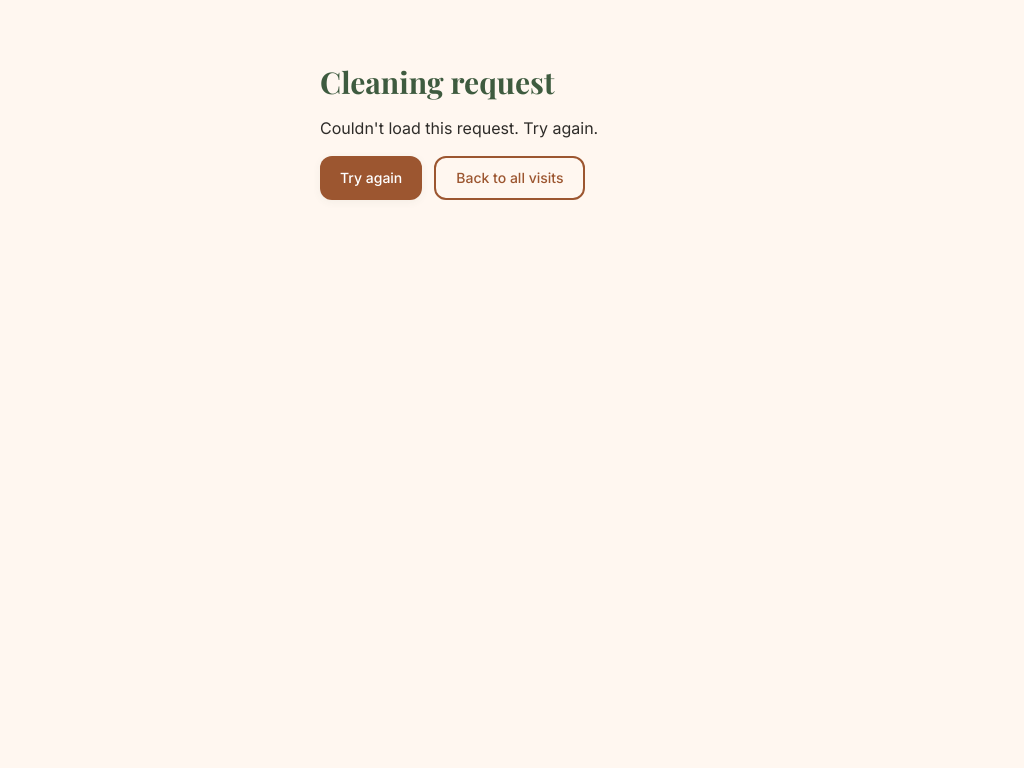
Scenario: owner login and visit switching › offers recovery for a missing request instead of claiming the visit list is empty
expect the message shows "Couldn't load this request": met, box [320,118,598,138]
Click the button "Back to all visits". click: (510,178)
box: [434,156,586,200]
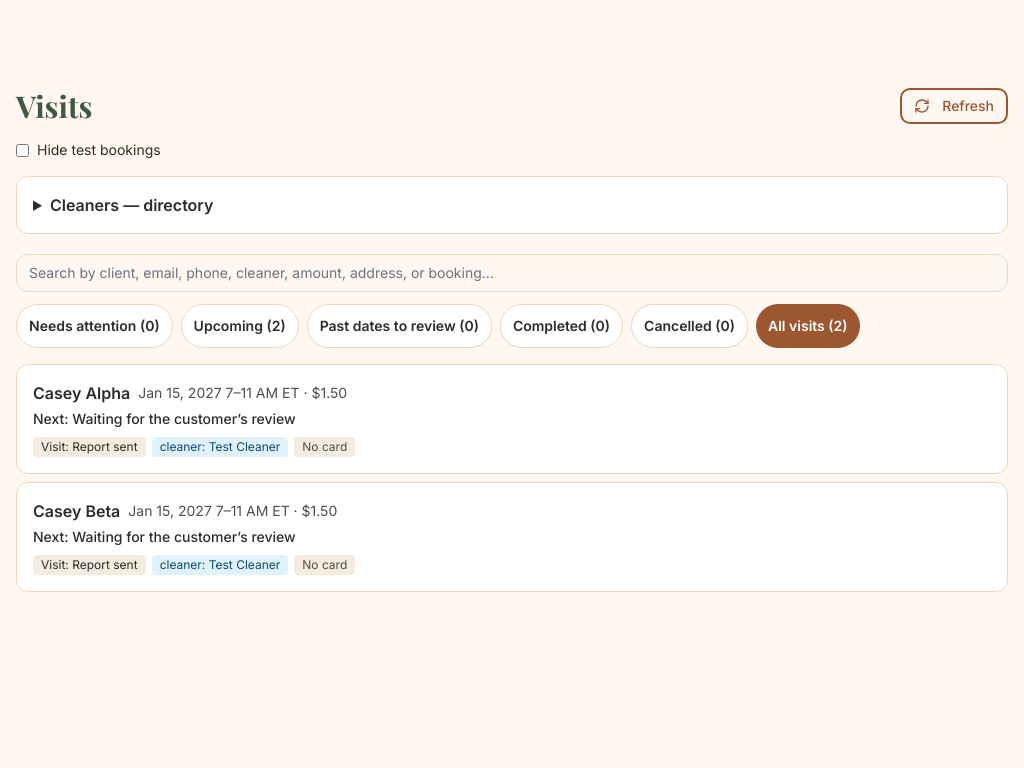
expect the button "Casey Beta" is shown: met, box [16,482,1008,592]
